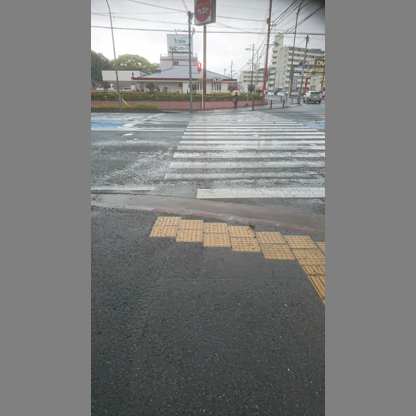brailleblock: (299, 238, 323, 282), (228, 225, 261, 250), (150, 213, 181, 238), (202, 222, 230, 247), (174, 220, 202, 243), (263, 232, 283, 259)
crosswalk: (192, 112, 281, 151)
signal: (196, 62, 201, 71)
